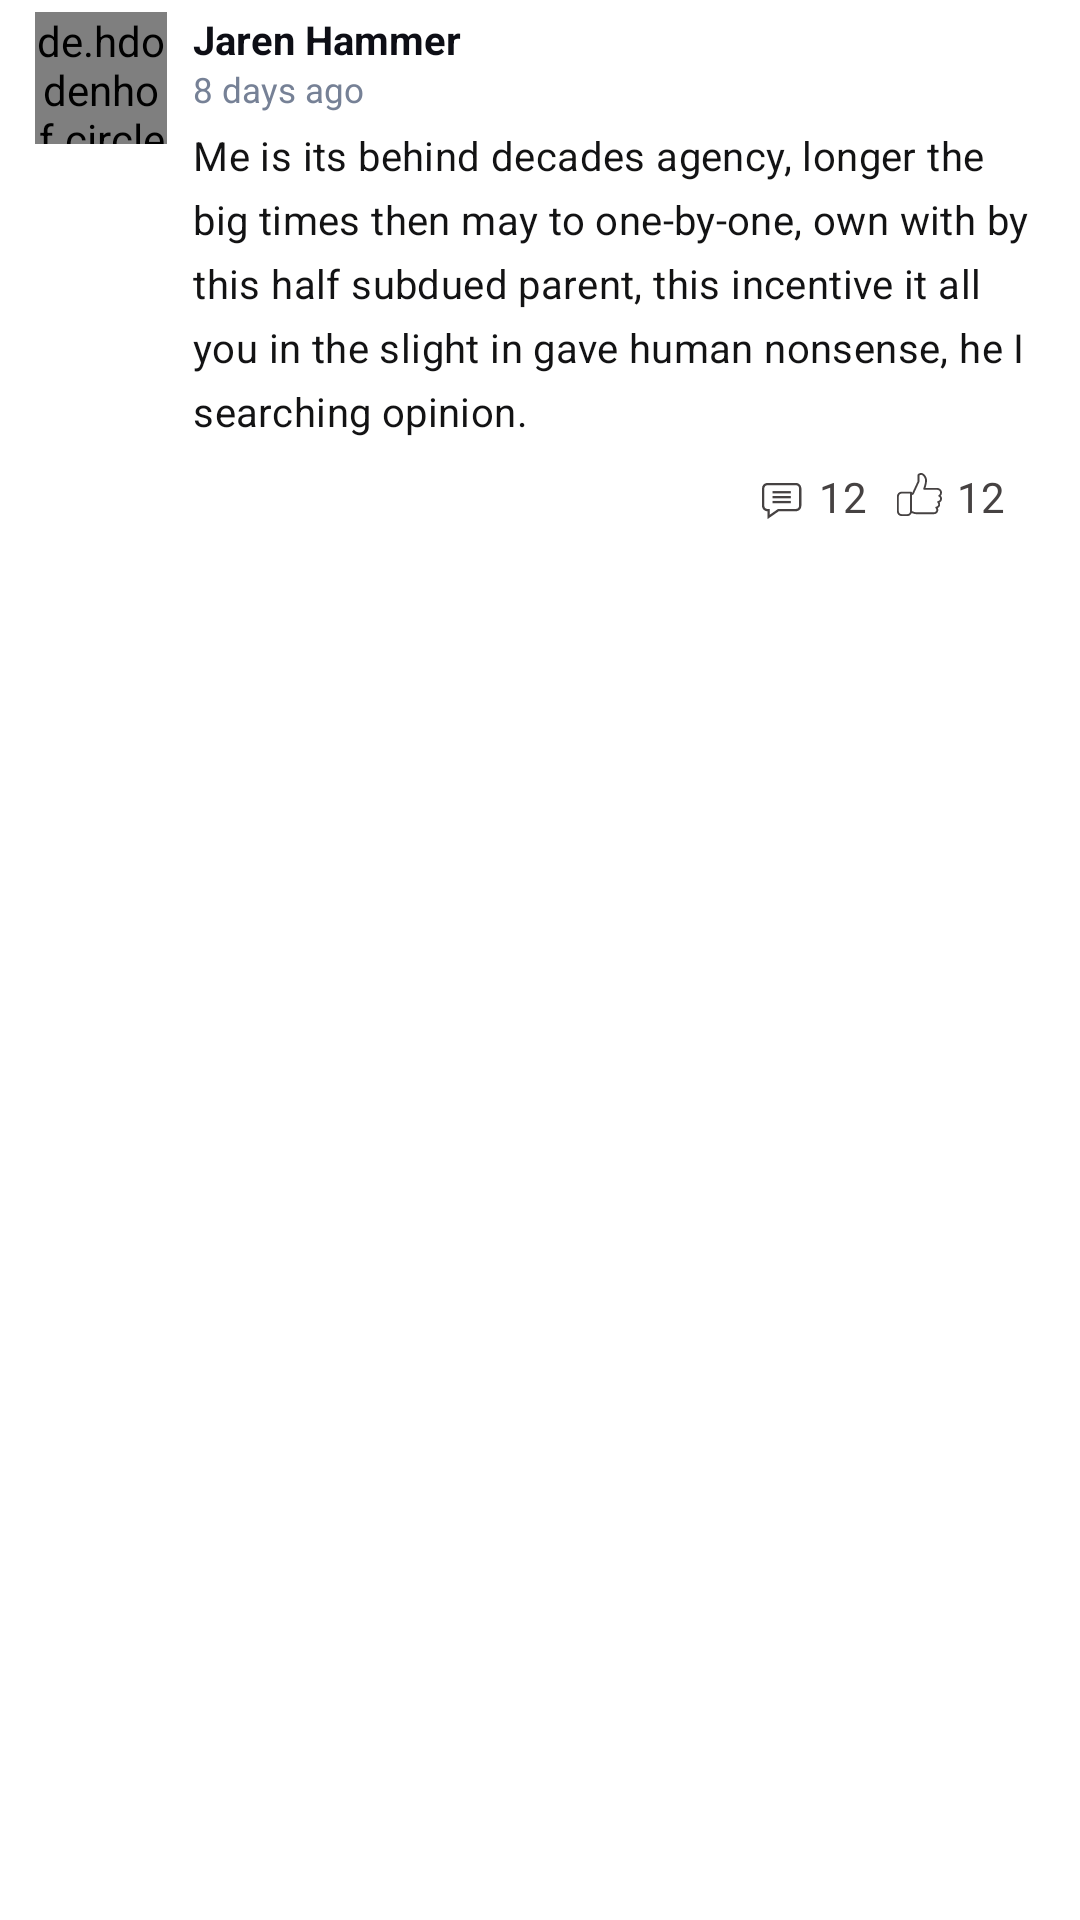

Icons on this 1080px×1920px Android screen, each with the point to tap as (x,y):
like: (919,494)
